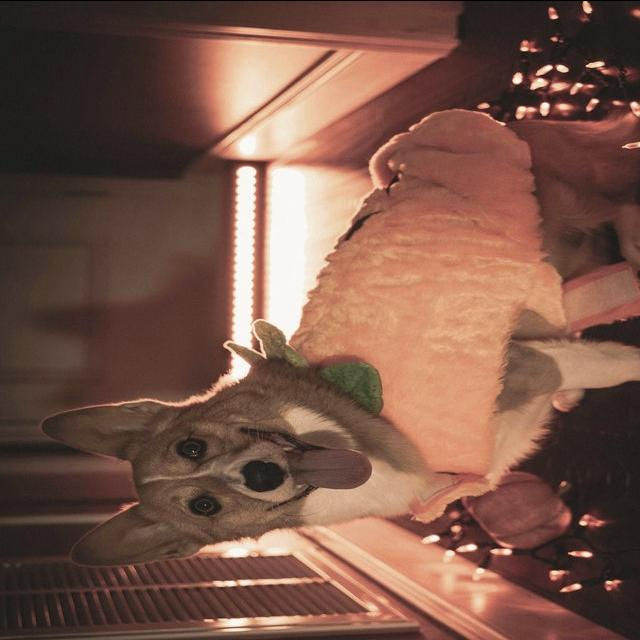corgi: (38, 105, 638, 569)
